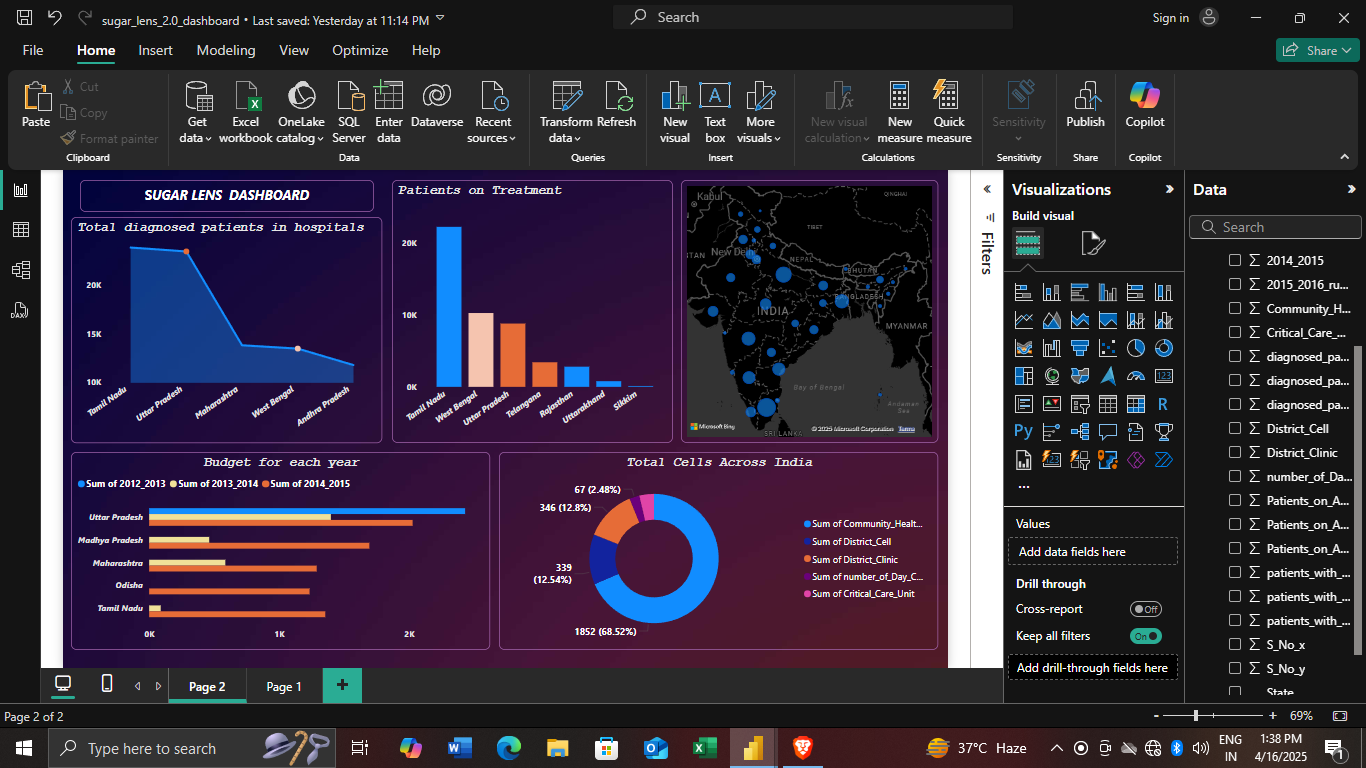

Layout of this report page (visuals, bound fields, positions):
{"tool":"powerbi","page":{"name":"Page 2","canvas":[1280,720],"ordinal":0},"visuals":[{"type":"lineClusteredColumnComboChart","title":"Patients on Treatment ","fields":{"Category":["Sheet1 (2).State"],"Y":["Sum(Sheet1 (2).Patients_on_Anti_diabetic_treatment_total)"]},"box":[475.7,14.5,406.3,380.2],"z":0},{"type":"map","fields":{"Category":["Sheet1 (2).State"],"Size":["Sum(Sheet1 (2).total patients)"]},"box":[893.5,14.5,371.6,380.2],"z":1000},{"type":"clusteredBarChart","title":"Budget for each year","fields":{"Category":["Sheet1 (2).State"],"Y":["Sum(Sheet1 (2).2012_2013)","Sum(Sheet1 (2).2013_2014)","Sum(Sheet1 (2).2014_2015)"]},"box":[11.6,407.7,605.8,286.3],"z":2000},{"type":"donutChart","title":"Total Cells Across India","fields":{"Y":["Sum(Sheet1 (2).Community_Health_Center_Clinic)","Sum(Sheet1 (2).District_Cell)","Sum(Sheet1 (2).District_Clinic)","Sum(Sheet1 (2).number_of_Day_Care_Center)","Sum(Sheet1 (2).Critical_Care_Unit)"]},"box":[630.4,407.7,634.7,286.3],"z":3000},{"type":"areaChart","title":"Total diagnosed patients in hospitals","fields":{"Category":["Sheet1 (2).State"],"Y":["Sum(Sheet1 (2).diagnosed_patients_Public_Total)"]},"box":[11.6,68,449.6,326.7],"z":4000},{"type":"textbox","box":[24.6,14.5,425.1,46.3],"z":5000}]}

Visuals, with their boxes on the page's 1280x720 design canvas (x1, y1, x2, y2). These are canvas units, not pixel positions in the 1366x768 screenshot, which may show the page scaled, cropped or inside an application window:
"Patients on Treatment " lineClusteredColumnComboChart: [left=476, top=14, right=882, bottom=395]
map - Sheet1 (2).State x Sum(Sheet1 (2).total patients): [left=894, top=14, right=1265, bottom=395]
"Budget for each year" clusteredBarChart: [left=12, top=408, right=617, bottom=694]
"Total Cells Across India" donutChart: [left=630, top=408, right=1265, bottom=694]
"Total diagnosed patients in hospitals" areaChart: [left=12, top=68, right=461, bottom=395]
textbox: [left=25, top=14, right=450, bottom=61]
